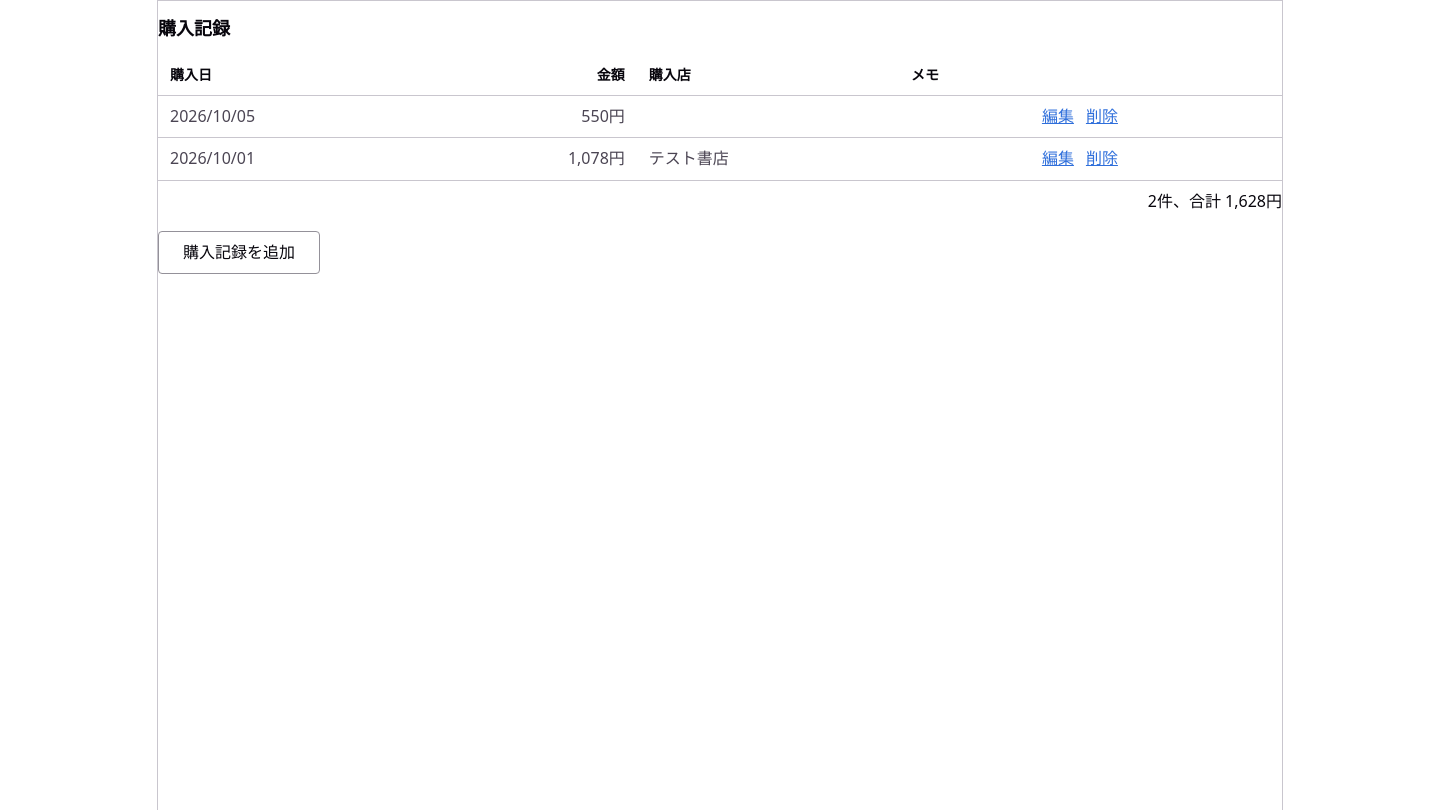
Test: PurchasesSection › 編集 › 変更した値を送り、フォームを閉じて購入記録を取り直す
The image size is (1440, 810).
Click the button with aria-label "2026/10/01 の購入記録を編集" at (1058, 159), box [1042,146,1074,172]
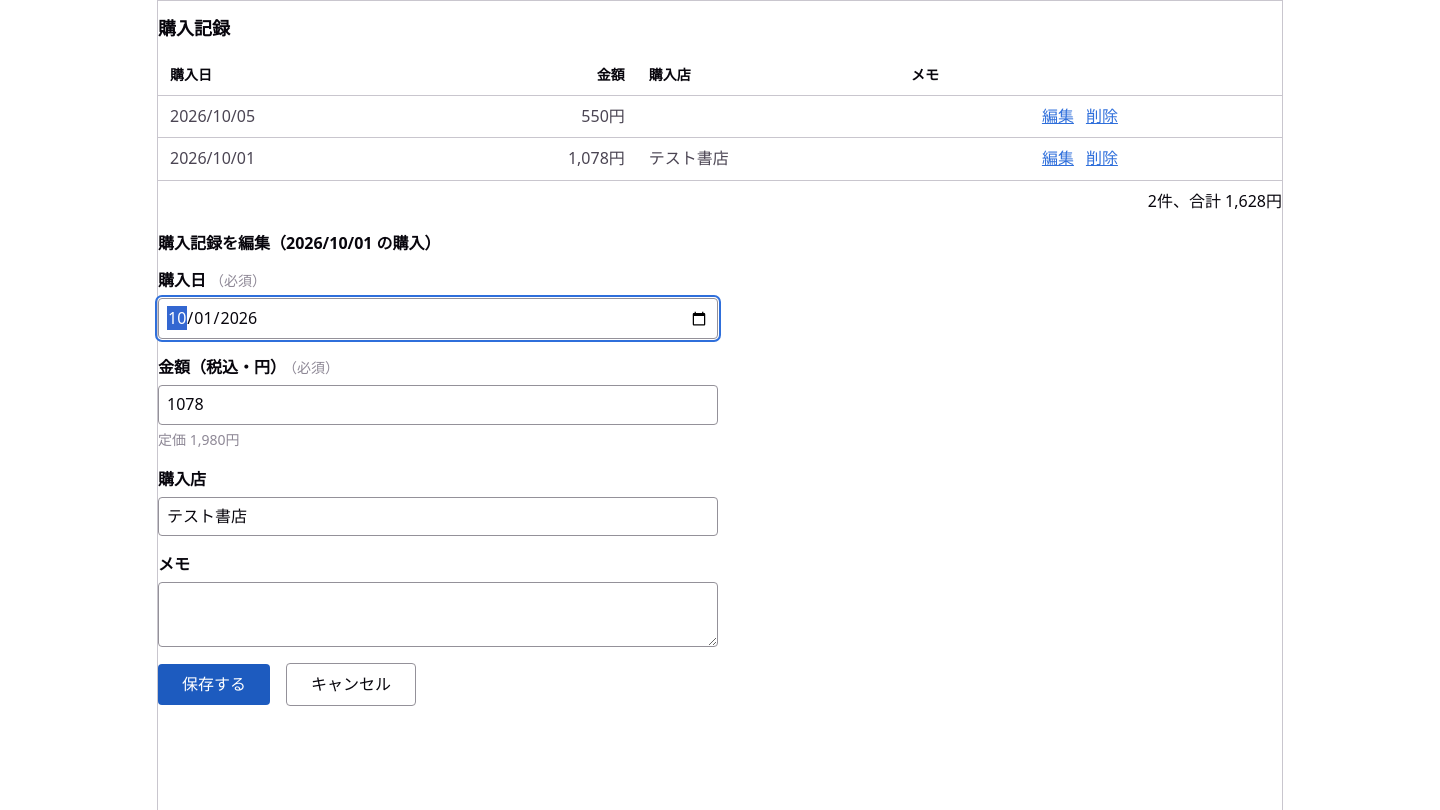
Replace the text in the field labelled "金額（税込・円）（必須）" with "980" at (438, 405), box [158,385,718,424]
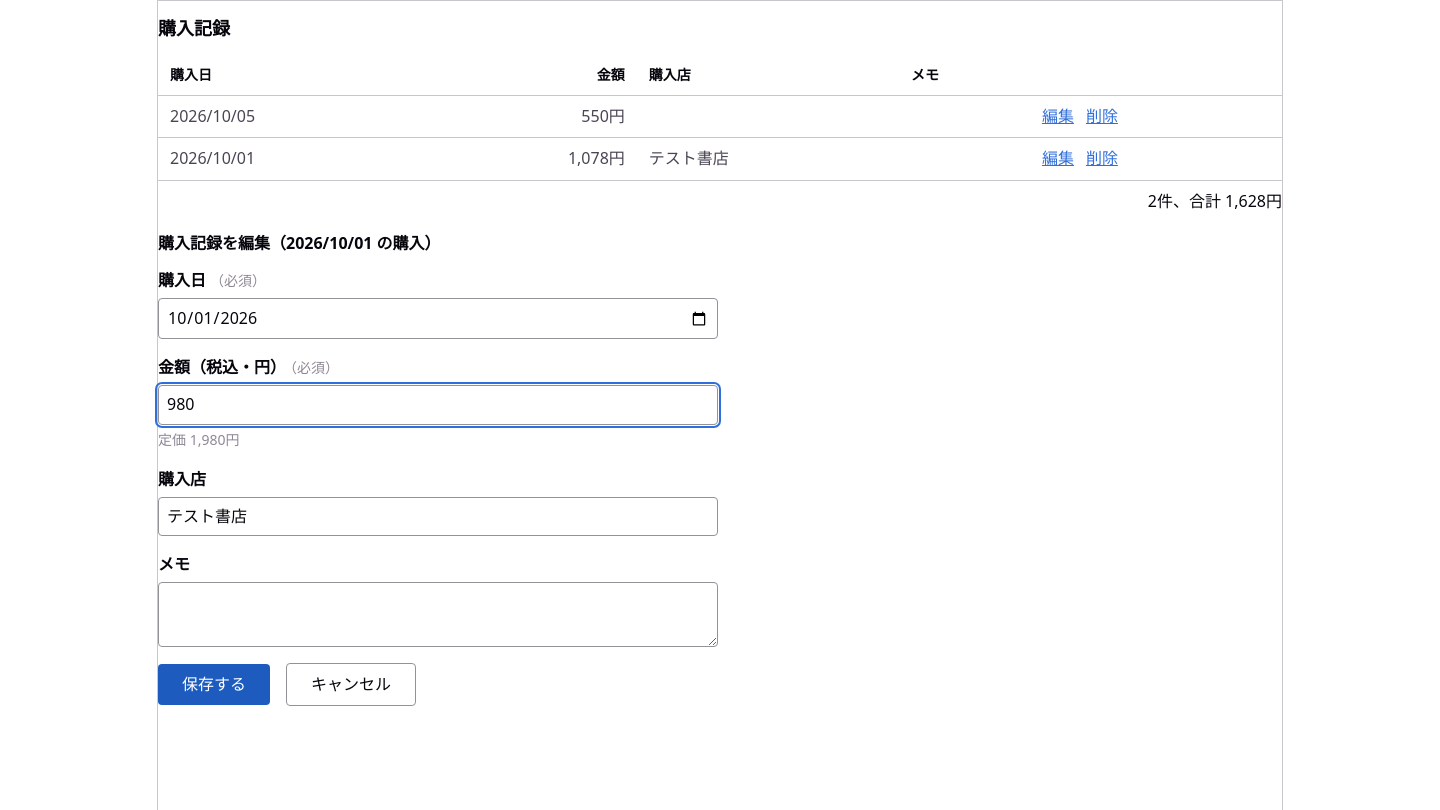
Click the button "保存する" at (214, 685), box [158,664,270,706]
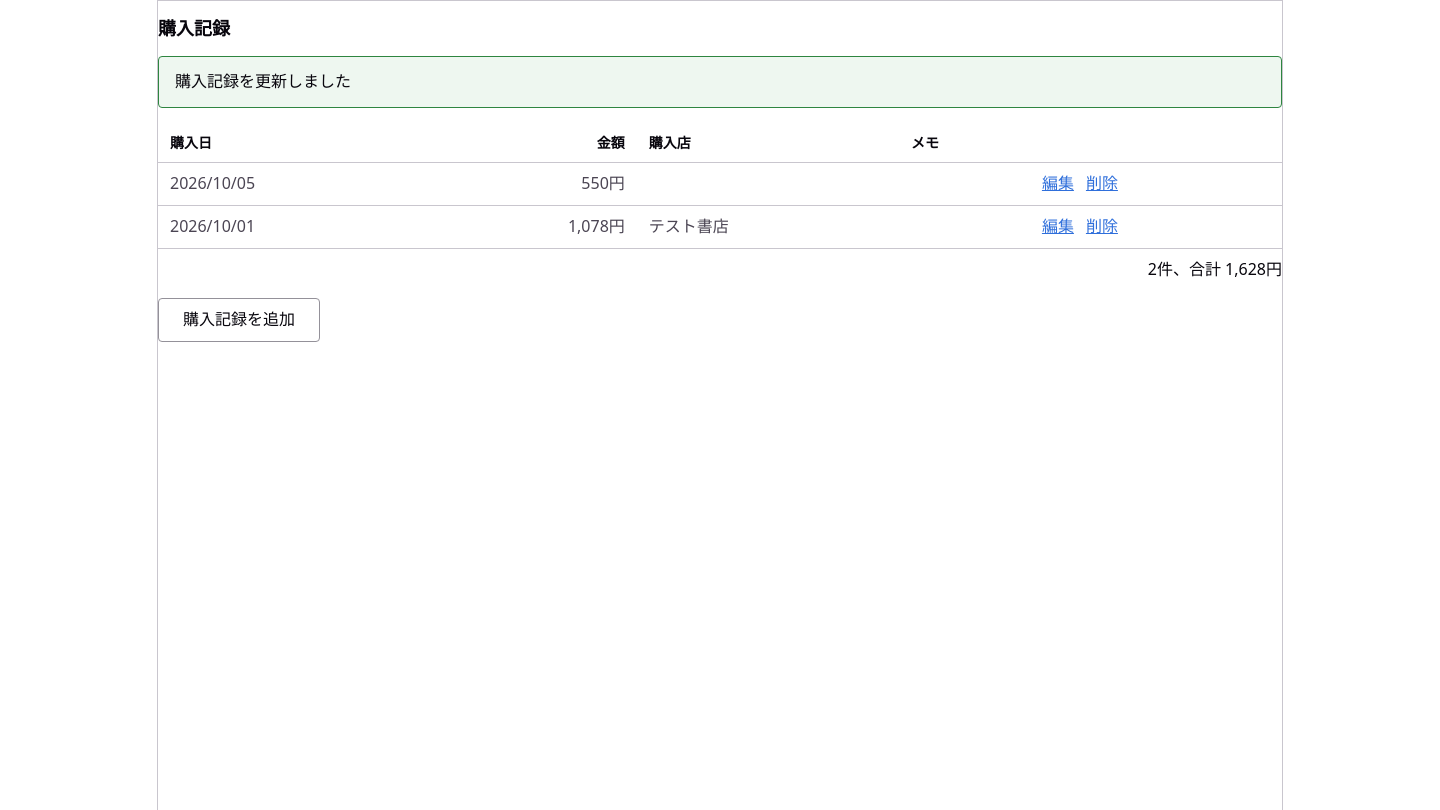
expect the message reads "購入記録を更新しました": met, box [175,70,351,92]
expect the button "保存する" is gone: met
